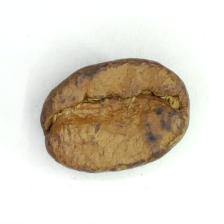NG: (49, 81, 182, 159)
